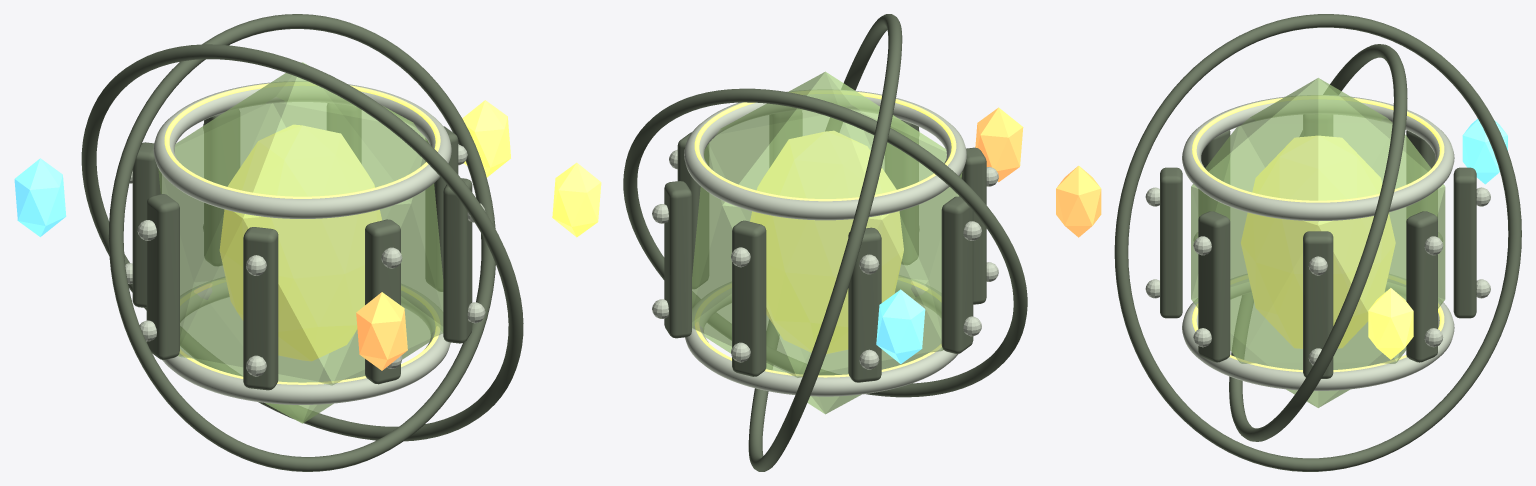
The model's file is fuel-core.glb.
3 renders of one model, left to right at view 1: azimuth 30°, elevation 25°; view 2: azimuth 150°, elevation 25°; view 3: azimuth 270°, elevation 25°, orthographic. The views are drawn at different scales.
Visible parts, largest first — view 1: SHELL | floating crystal, HEART | luminous energy cell, GIMBAL A, GIMBAL B, COLLAR | machined titanium.001, COLLAR | machined titanium, RIB 05 | floating graphite, RIB 04 | floating graphite, RIB 07 | floating graphite, RIB 02 | floating graphite, RIB 06 | floating graphite, SATELLITE 1 (+7 smaller); view 2: SHELL | floating crystal, HEART | luminous energy cell, GIMBAL A, GIMBAL B, COLLAR | machined titanium.001, COLLAR | machined titanium, RIB 02 | floating graphite, RIB 04 | floating graphite, RIB 01 | floating graphite, RIB 03 | floating graphite, SATELLITE 0, SATELLITE 1 (+7 smaller); view 3: SHELL | floating crystal, GIMBAL B, HEART | luminous energy cell, COLLAR | machined titanium.001, GIMBAL A, COLLAR | machined titanium, RIB 07 | floating graphite, RIB 01 | floating graphite, RIB 00 | floating graphite, RIB 02 | floating graphite, RIB 06 | floating graphite, SATELLITE 0 (+7 smaller).
Boxes of the visible parts, left/top/right/bottom form: SHELL | floating crystal: left=158, top=62, right=443, bottom=423; HEART | luminous energy cell: left=219, top=124, right=381, bottom=361; GIMBAL A: left=108, top=14, right=495, bottom=471; GIMBAL B: left=81, top=44, right=523, bottom=441; COLLAR | machined titanium.001: left=153, top=81, right=451, bottom=218; COLLAR | machined titanium: left=162, top=277, right=450, bottom=404; RIB 05 | floating graphite: left=243, top=227, right=278, bottom=390; RIB 04 | floating graphite: left=146, top=194, right=179, bottom=359; RIB 07 | floating graphite: left=443, top=178, right=472, bottom=343; RIB 02 | floating graphite: left=204, top=109, right=239, bottom=265; RIB 06 | floating graphite: left=365, top=219, right=400, bottom=384; SATELLITE 1: left=14, top=158, right=66, bottom=236; SHELL | floating crystal: left=692, top=71, right=962, bottom=414; HEART | luminous energy cell: left=750, top=130, right=903, bottom=354; GIMBAL A: left=623, top=88, right=1027, bottom=397; GIMBAL B: left=748, top=14, right=902, bottom=471; COLLAR | machined titanium.001: left=684, top=89, right=966, bottom=220; COLLAR | machined titanium: left=685, top=275, right=958, bottom=396; RIB 02 | floating graphite: left=732, top=220, right=766, bottom=376; RIB 04 | floating graphite: left=941, top=196, right=973, bottom=353; RIB 01 | floating graphite: left=664, top=181, right=691, bottom=338; RIB 03 | floating graphite: left=848, top=227, right=881, bottom=382; SATELLITE 0: left=552, top=162, right=601, bottom=237; SATELLITE 1: left=876, top=289, right=925, bottom=363; SHELL | floating crystal: left=1191, top=78, right=1445, bottom=407; GIMBAL B: left=1114, top=14, right=1521, bottom=471; HEART | luminous energy cell: left=1241, top=135, right=1395, bottom=348; COLLAR | machined titanium.001: left=1182, top=95, right=1454, bottom=221; GIMBAL A: left=1229, top=44, right=1407, bottom=441; COLLAR | machined titanium: left=1182, top=274, right=1454, bottom=390; RIB 07 | floating graphite: left=1198, top=211, right=1230, bottom=362; RIB 01 | floating graphite: left=1406, top=211, right=1437, bottom=362; RIB 00 | floating graphite: left=1303, top=231, right=1333, bottom=378; RIB 02 | floating graphite: left=1453, top=167, right=1476, bottom=318; RIB 06 | floating graphite: left=1160, top=167, right=1182, bottom=318; SATELLITE 0: left=1368, top=288, right=1413, bottom=359.
Size of the model in its own units: 1.84 by 1.73 by 1.84.
